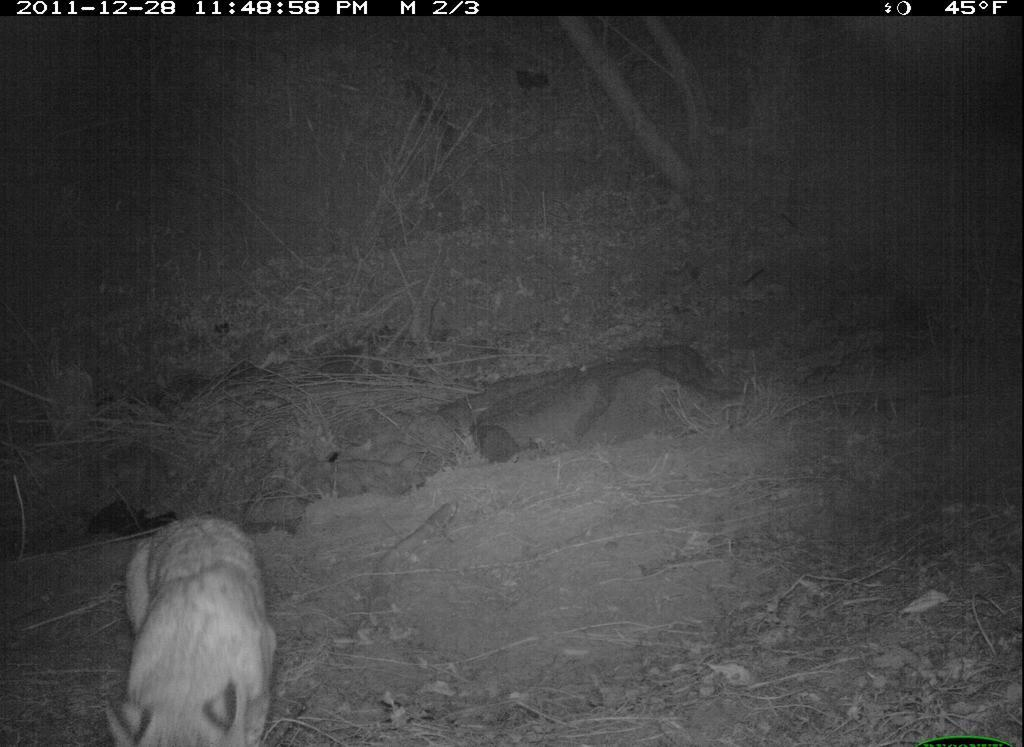bobcat: (98, 507, 278, 747)
